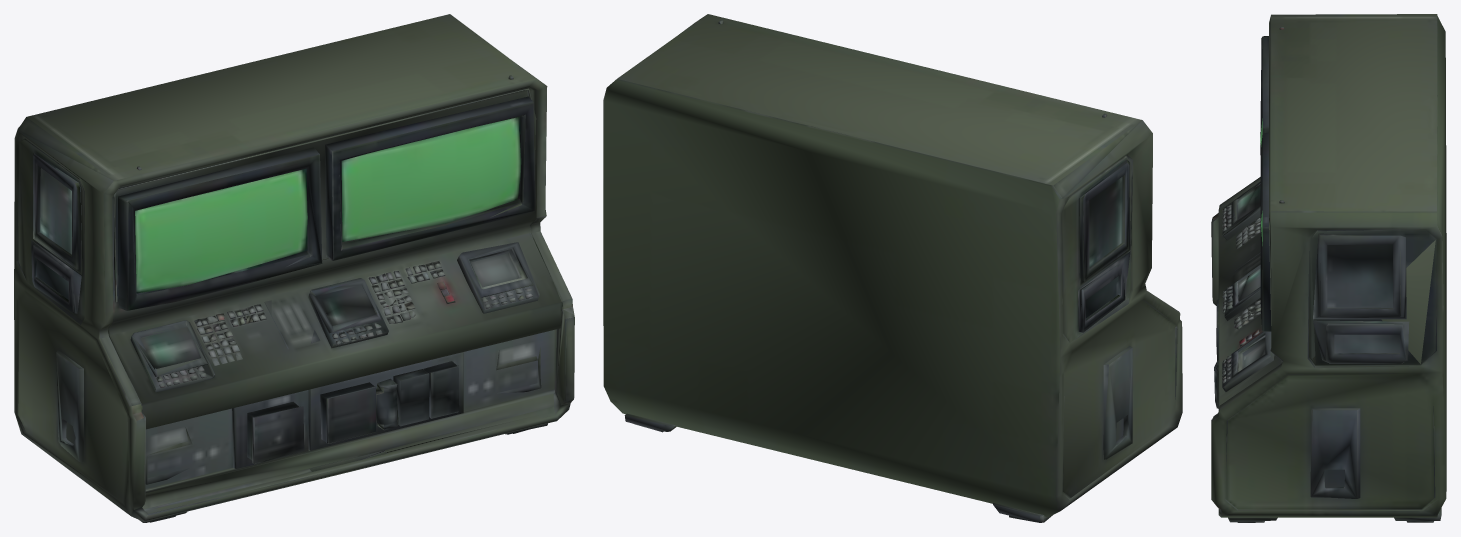
The model's file is l_terminal.glb.
3 views of the same model, side by side, from view 1: azimuth 30°, elevation 25°; view 2: azimuth 150°, elevation 25°; view 3: azimuth 270°, elevation 25° (orthographic). The views are drawn at different scales.
Size of the model in its own units: 0.9556 by 0.6812 by 0.4536.
1 material, 1 textured.
